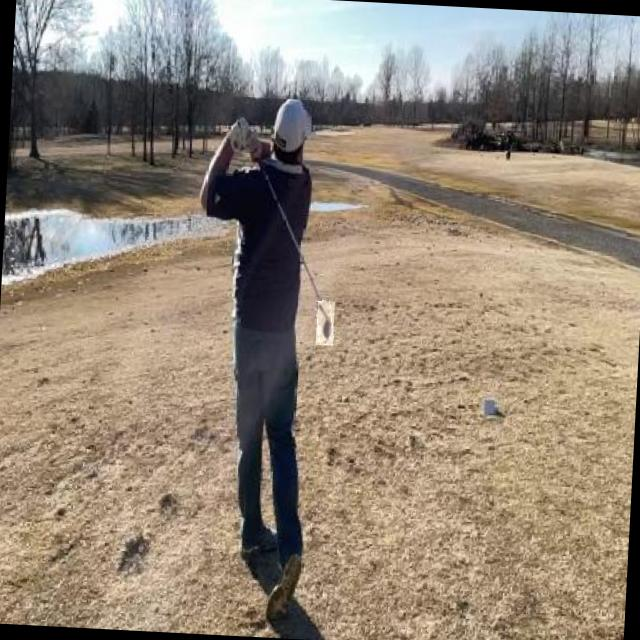club head: (316, 301, 335, 346)
